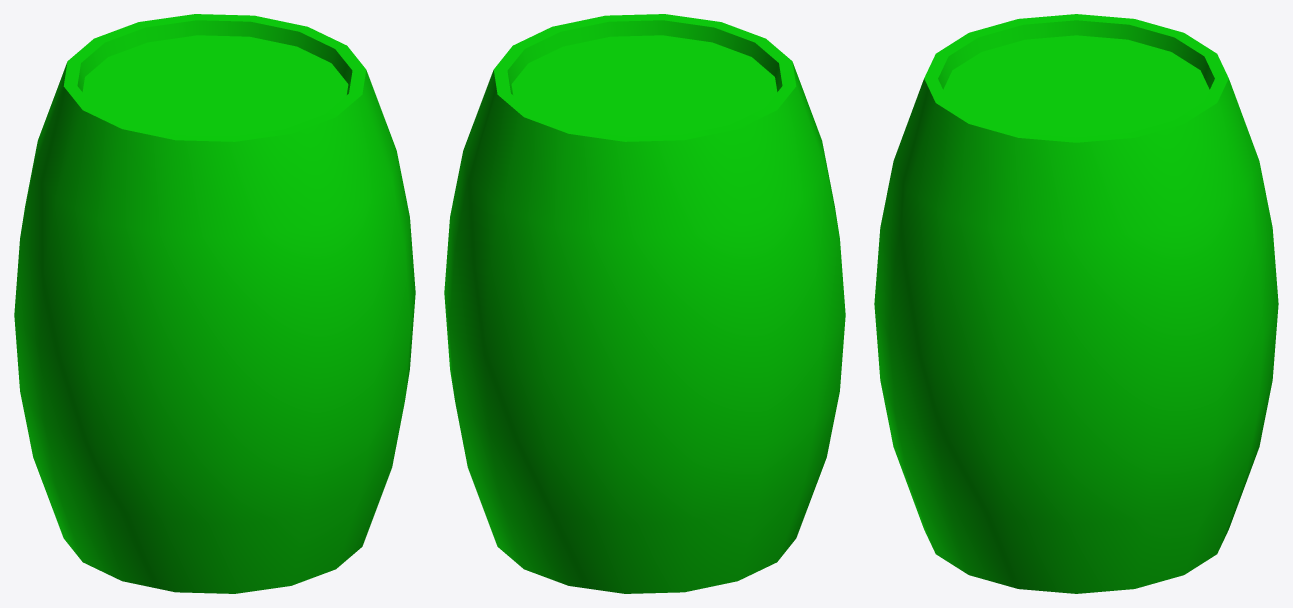
3 renders of one model, left to right at view 1: azimuth 30°, elevation 25°; view 2: azimuth 150°, elevation 25°; view 3: azimuth 270°, elevation 25°, orthographic.
Visible parts, largest first — view 1: G:\FFXIV-MapTools\exports\f1f2\bg\ffxiv\fst_f1\fld\f1f2\bgpa; view 2: G:\FFXIV-MapTools\exports\f1f2\bg\ffxiv\fst_f1\fld\f1f2\bgpa; view 3: G:\FFXIV-MapTools\exports\f1f2\bg\ffxiv\fst_f1\fld\f1f2\bgpa.
Boxes of the visible parts, x1,y1,x2,y2 form: G:\FFXIV-MapTools\exports\f1f2\bg\ffxiv\fst_f1\fld\f1f2\bgpa: (14, 14, 415, 593); G:\FFXIV-MapTools\exports\f1f2\bg\ffxiv\fst_f1\fld\f1f2\bgpa: (444, 14, 845, 593); G:\FFXIV-MapTools\exports\f1f2\bg\ffxiv\fst_f1\fld\f1f2\bgpa: (874, 14, 1278, 593).
Bounding box in the file's own units: 0.8872 × 1.09 × 0.8872.
